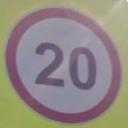speed_limit_20: (4, 4, 124, 126)
